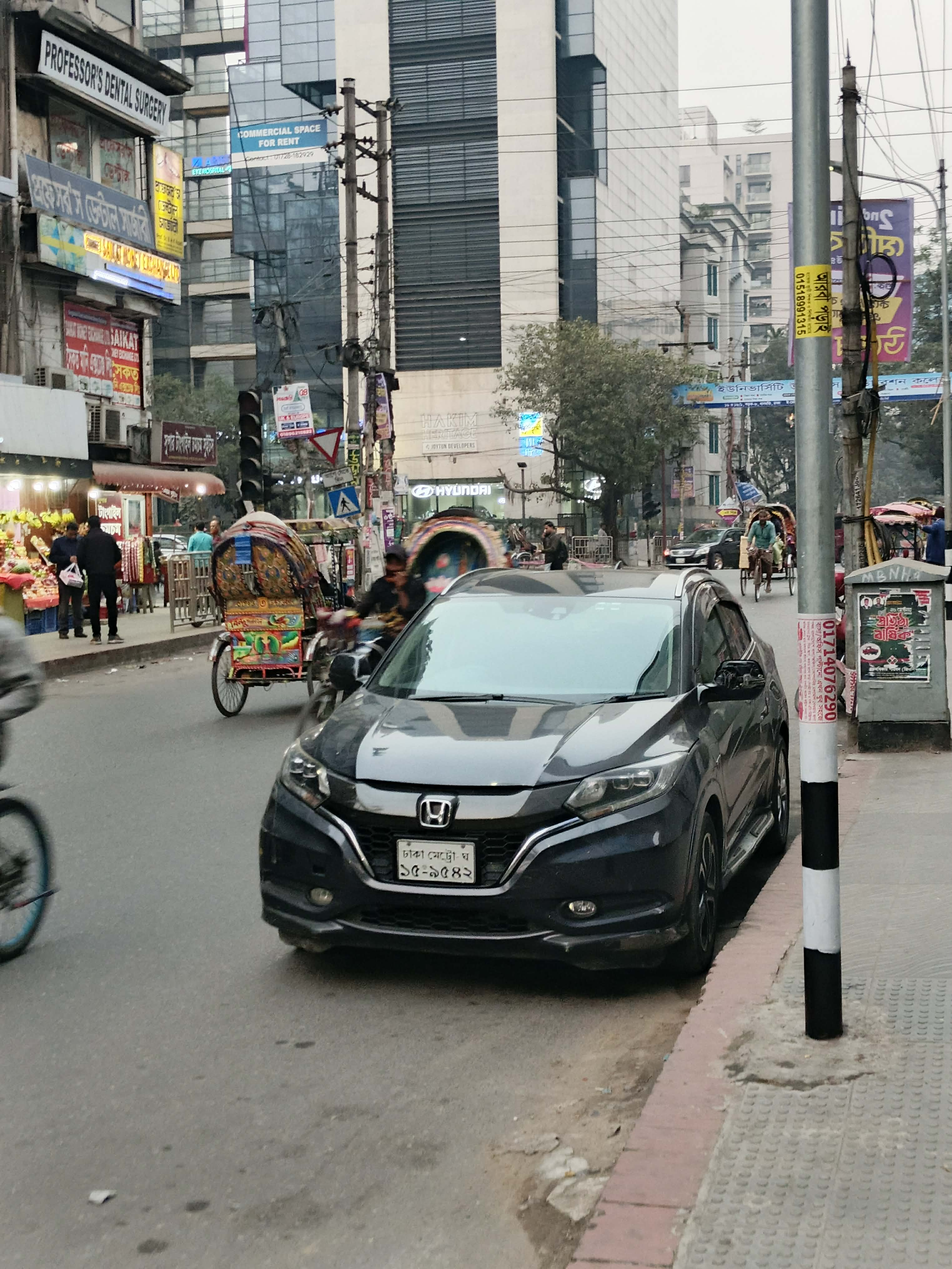auto-ricksaw: (181, 494, 344, 732), (734, 494, 798, 602)
private car: (231, 563, 787, 1003)
